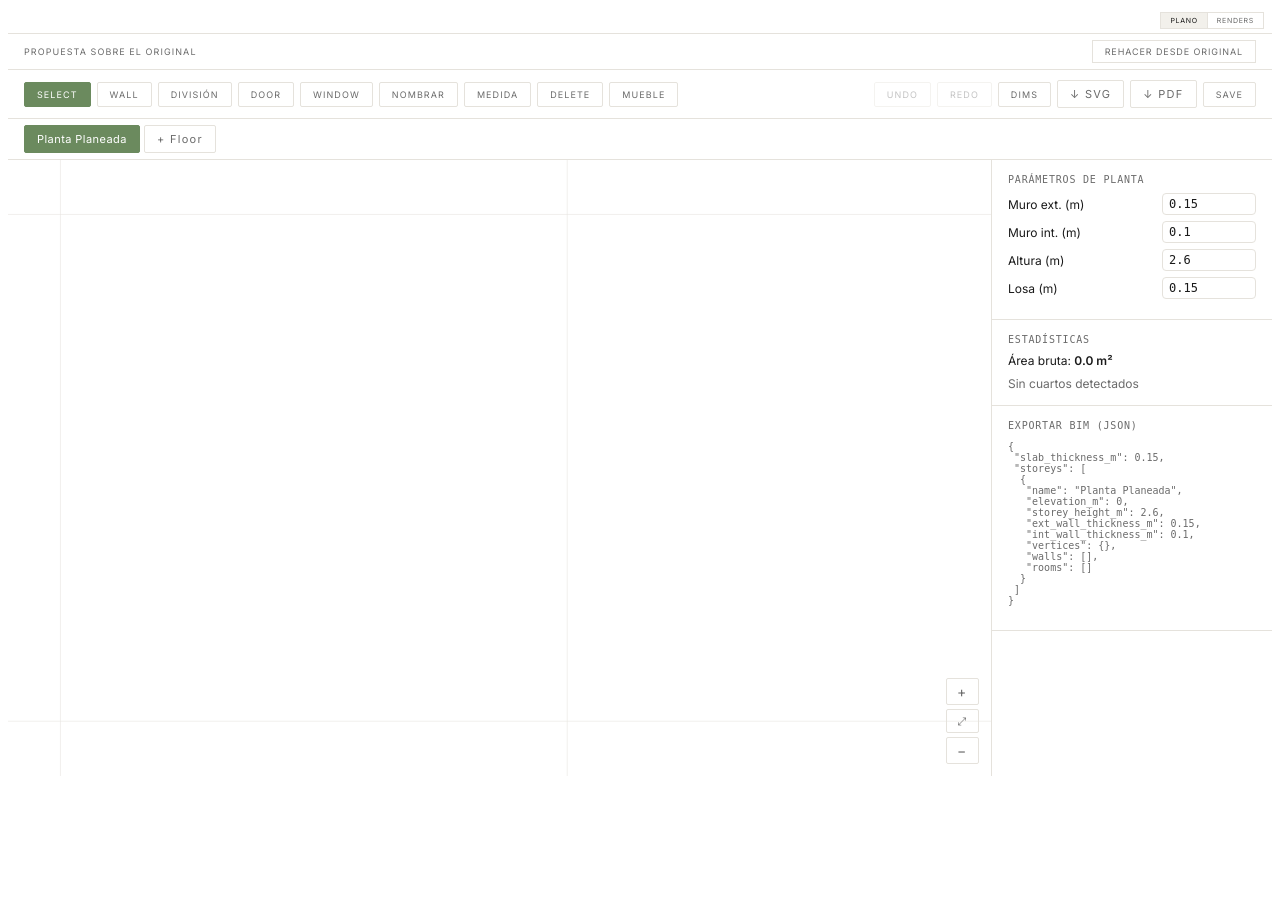
Test: LevantamientoPanel · PLANEADO existente › CANCELAR se desactiva mientras el re-partir está en vuelo: ya no hay nada que cancelar
Click the button "REHACER DESDE ORIGINAL": (1174, 52) [1092,40,1256,63]
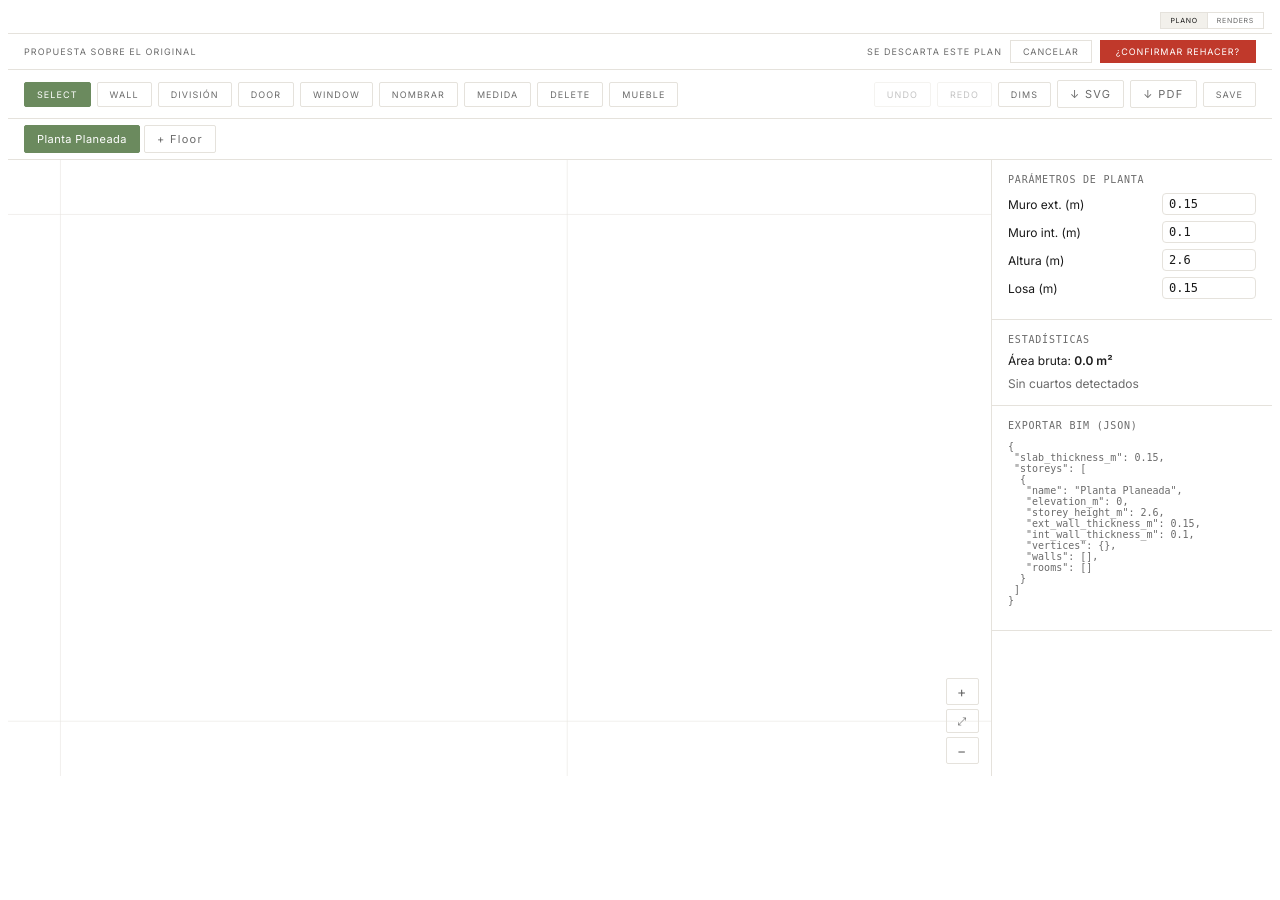
Click the button "¿CONFIRMAR REHACER?": (1178, 52) [1100,40,1256,63]
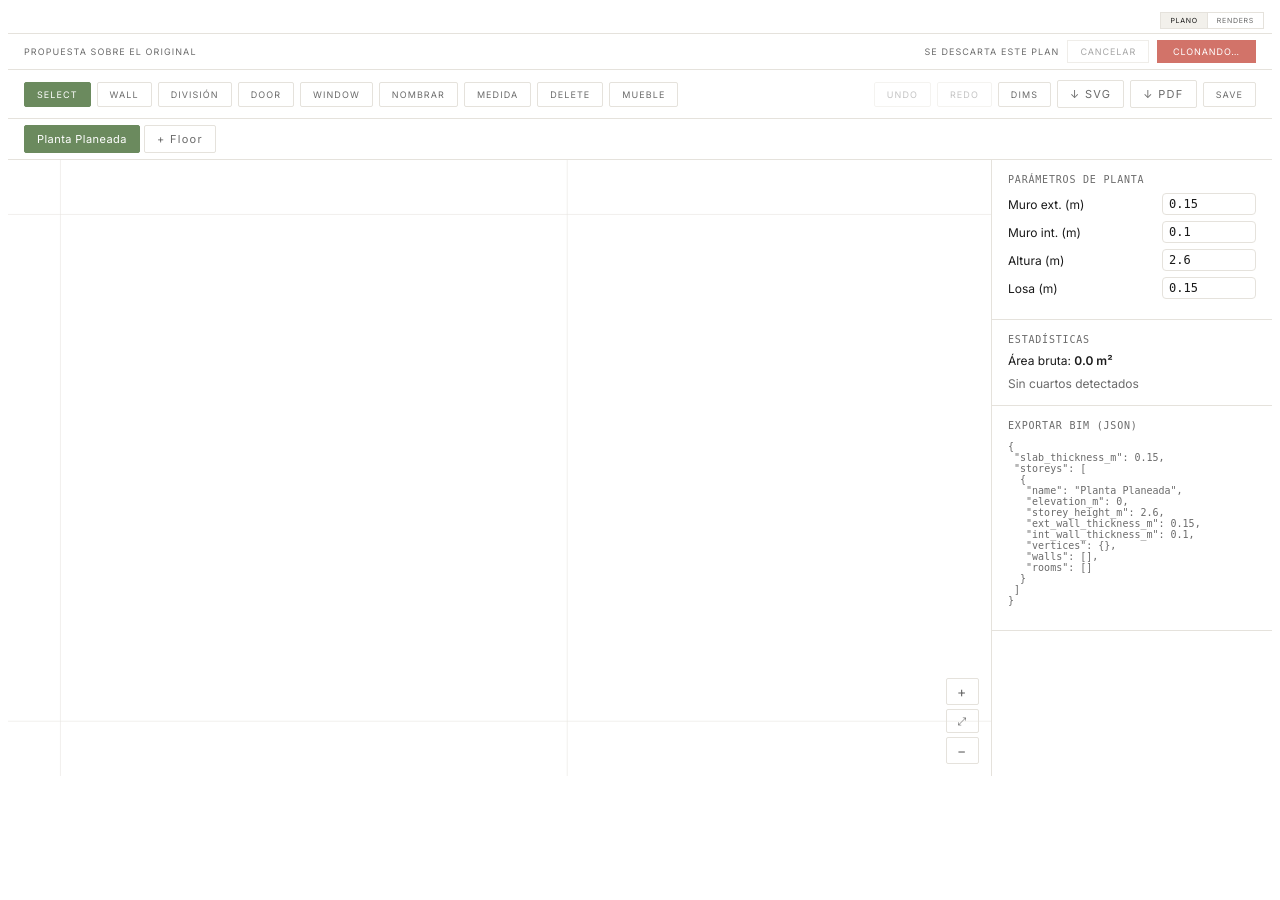
Now the button "CLONANDO…" is shown, box [1157,40,1256,63]
Now the button "CANCELAR" is disabled, box [1067,40,1149,63]
